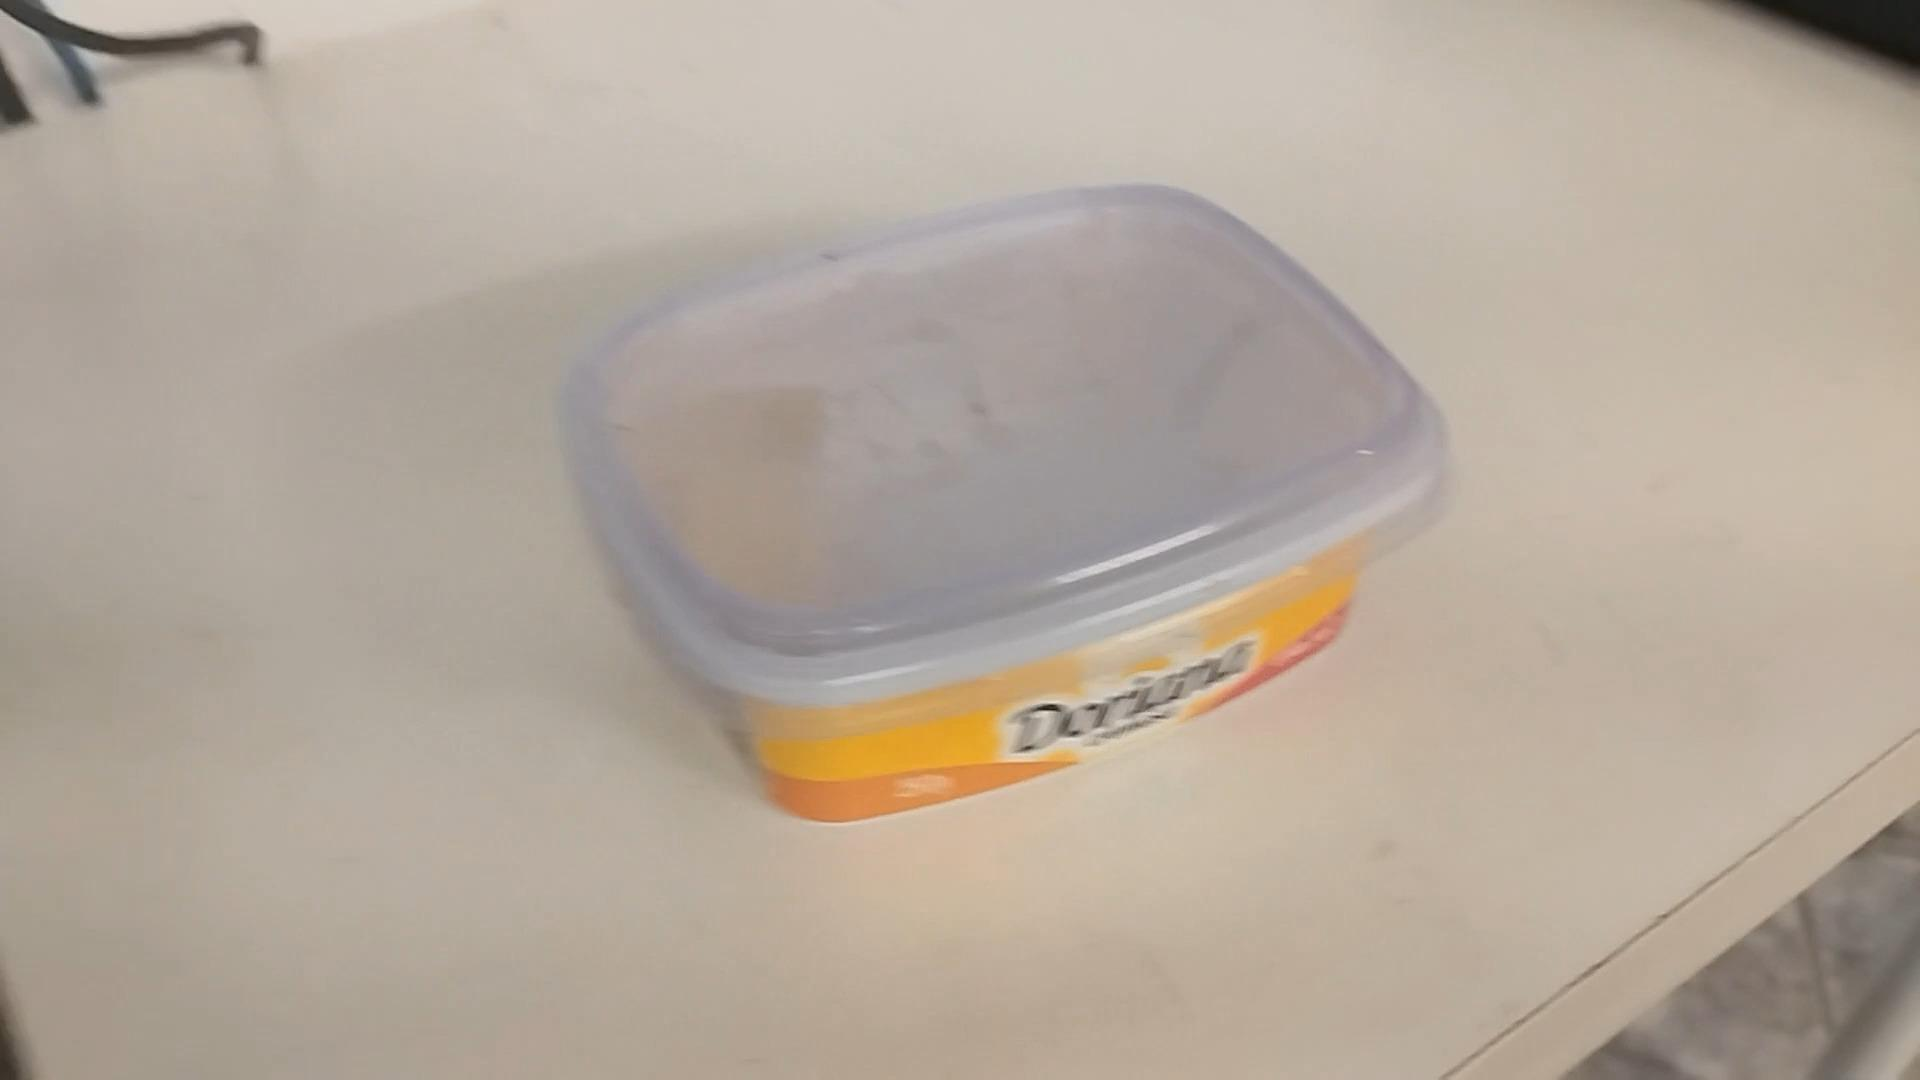butter: (560, 187, 1447, 828)
